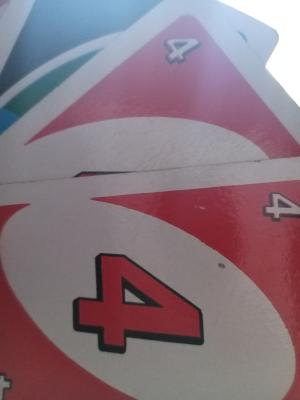num_4: (154, 27, 207, 69), (258, 181, 300, 226)
